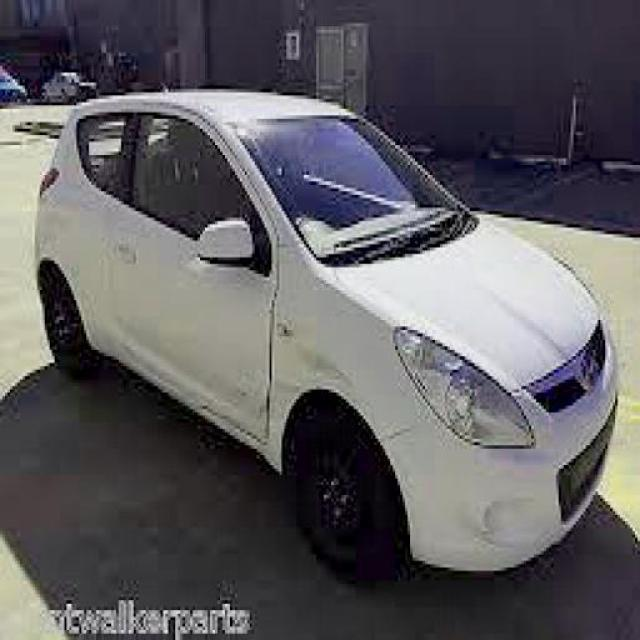Car-Damage: (184, 329, 407, 471)
